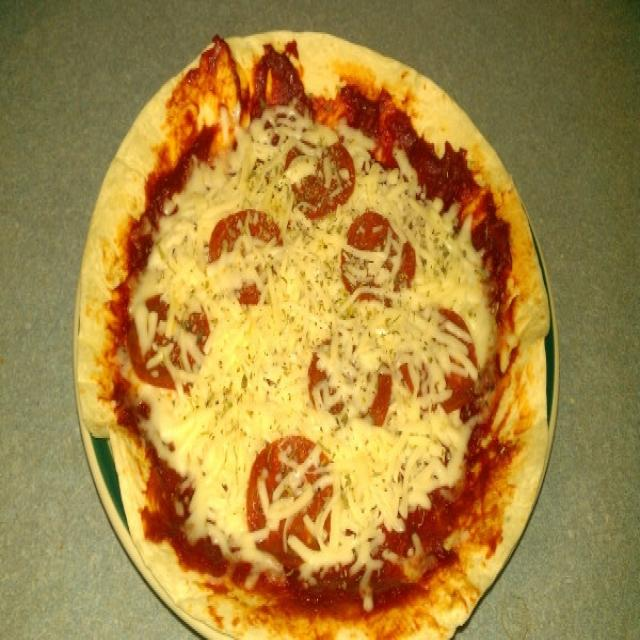面包点心: (64, 45, 586, 620)
